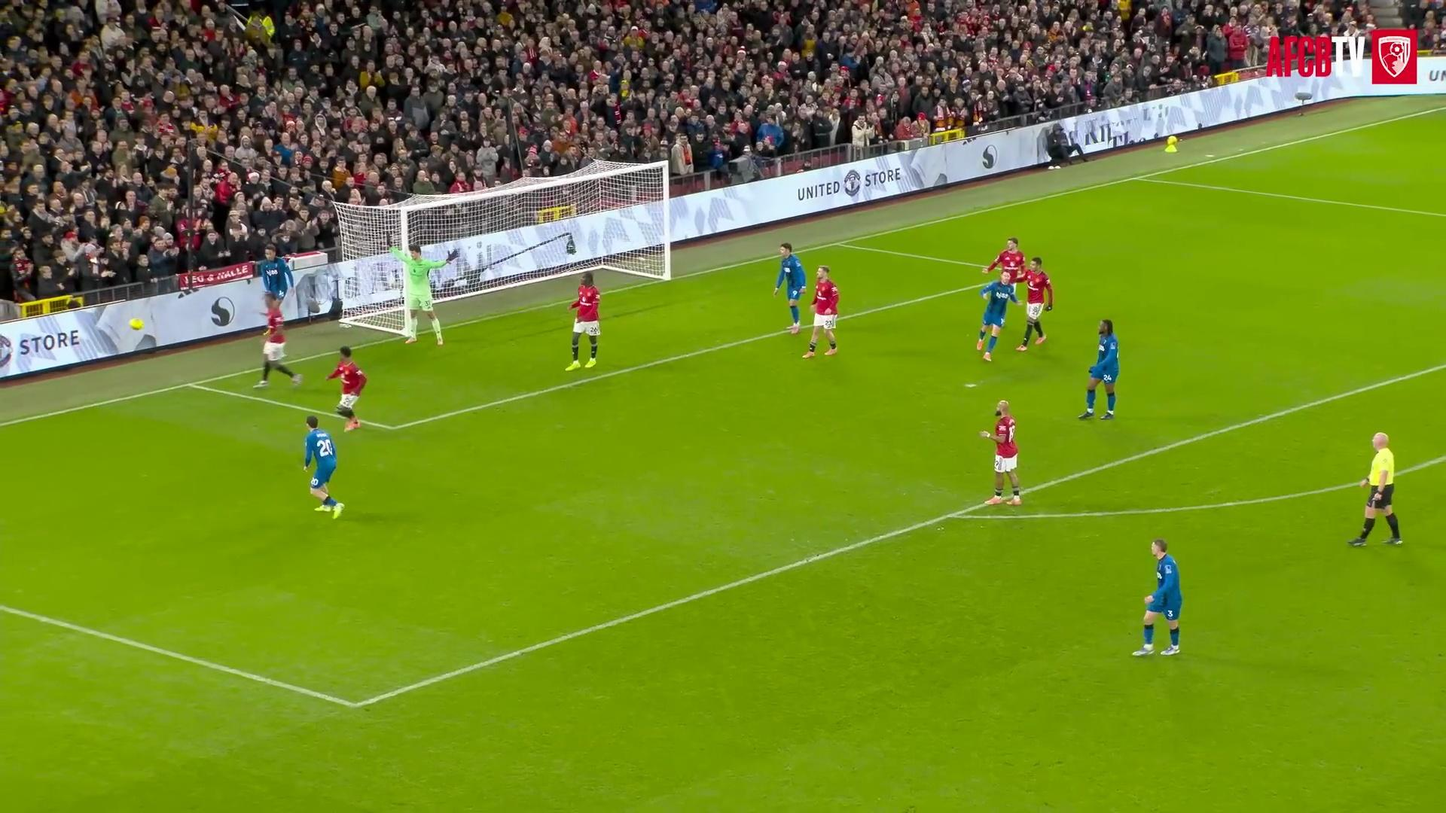football: (125, 314, 155, 338)
player: (391, 244, 458, 345), (1133, 539, 1182, 656), (254, 291, 301, 388), (981, 400, 1020, 504), (304, 416, 343, 519), (1078, 320, 1118, 419), (976, 272, 1018, 361), (327, 346, 367, 431), (1017, 257, 1053, 351), (803, 266, 839, 358), (566, 272, 599, 370), (773, 242, 807, 333), (257, 245, 294, 300), (982, 238, 1024, 282)
referee: (1350, 433, 1401, 546)
